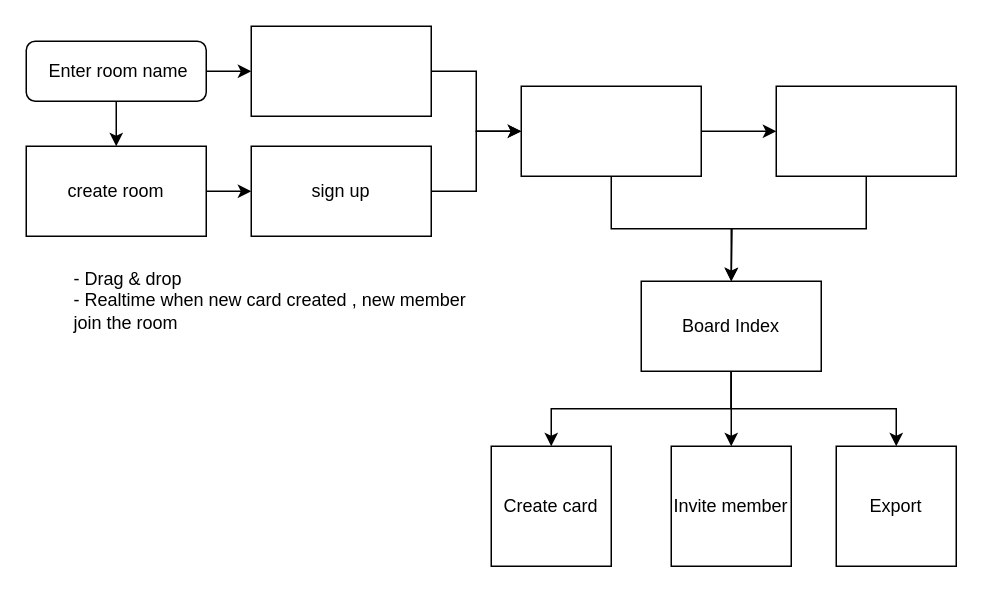
Image size: 983x593. Some labels were removed from this diagram. The shapes that lost their labels are listed below. From the top down, each one's box as (x1, y1, x2, y2) in pixels, then its label:
(250, 25, 431, 116): Log in
(520, 85, 701, 176): Board List
(775, 85, 956, 176): Create new Board
